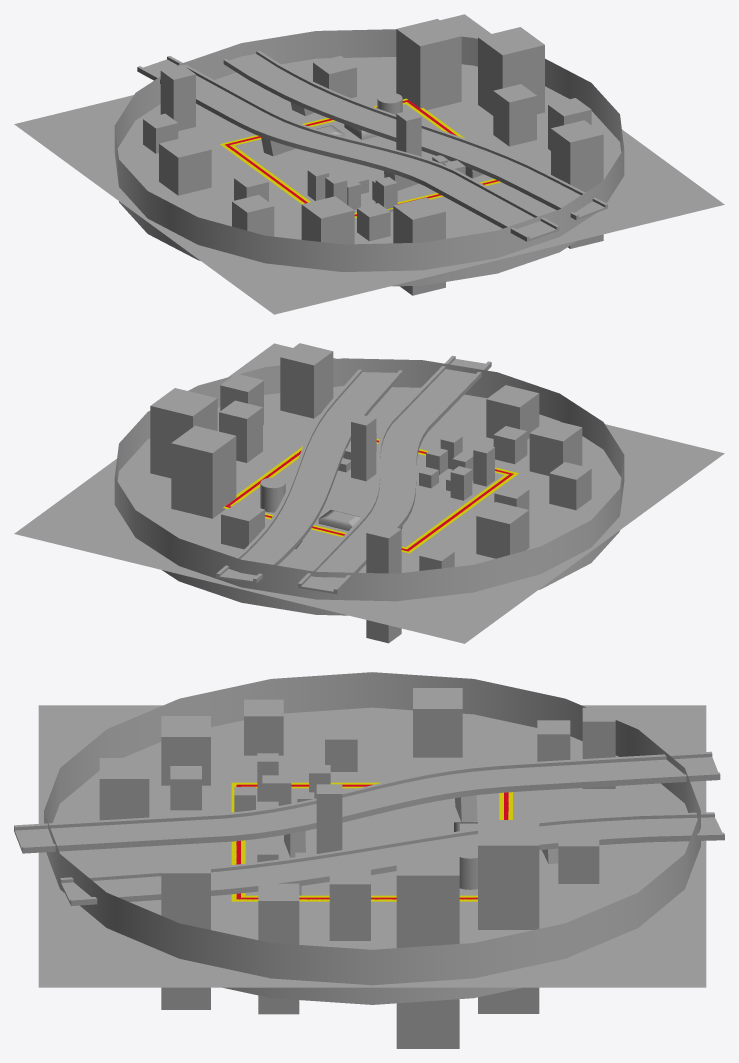
Rendered from stage_Beta2.fbx.
3 views of the same model, one above another, from view 1: azimuth 30°, elevation 25°; view 2: azimuth 150°, elevation 25°; view 3: azimuth 270°, elevation 25° (orthographic). The views are drawn at different scales.
Visible parts, largest first — view 1: stage, haikei1, haikei, endLine; view 2: stage, haikei1, haikei, endLine; view 3: stage, haikei1, haikei, endLine.
Part boxes in pixels (x1=…): stage: x1=14, y1=14, x2=724, y2=314; haikei1: x1=143, y1=19, x2=603, y2=295; haikei: x1=114, y1=29, x2=624, y2=286; endLine: x1=220, y1=98, x2=500, y2=217; stage: x1=14, y1=343, x2=724, y2=643; haikei1: x1=150, y1=343, x2=591, y2=643; haikei: x1=114, y1=358, x2=624, y2=615; endLine: x1=223, y1=438, x2=518, y2=553; stage: x1=14, y1=705, x2=724, y2=987; haikei1: x1=99, y1=688, x2=615, y2=1048; haikei: x1=44, y1=672, x2=700, y2=1004; endLine: x1=231, y1=782, x2=512, y2=901.
Size of what is drawn, in the model's own units: 13465 by 3853 by 14341.
